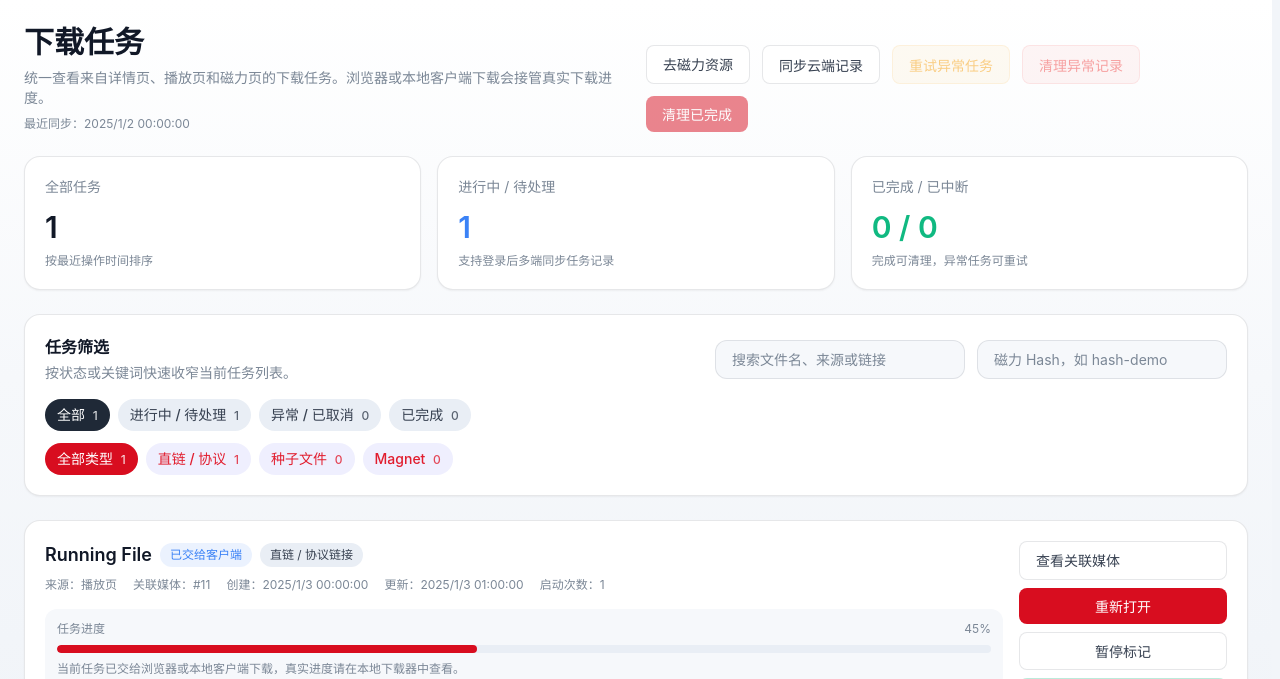
Test: DownloadsView › handles pause, complete, cancel, and remove row actions with visible feedback
The width and height of the screenshot is (1280, 679).
Click the button "暂停标记": (1123, 651) [1019,632,1227,670]
(page scrolled)
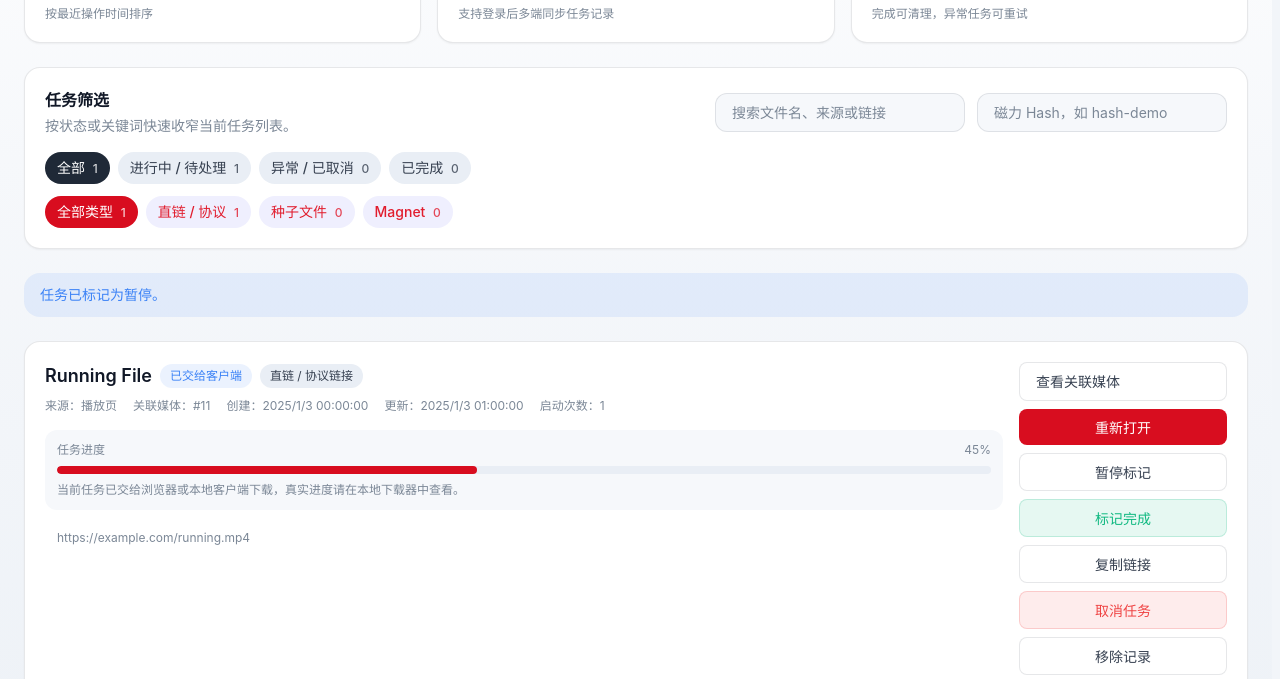
Expected: the text "任务已标记为暂停。" is shown, [24,273,1248,317]
Click the button "标记完成": (1123, 518) [1019,499,1227,537]
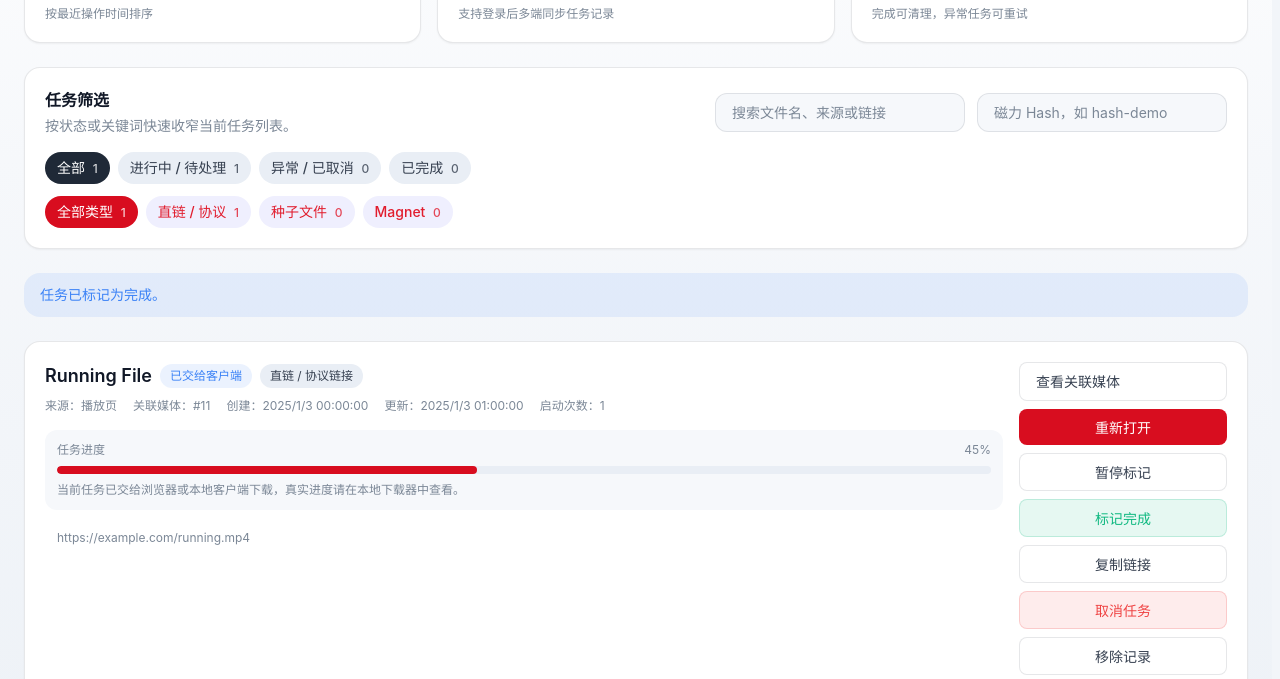
Expected: the text "任务已标记为完成。" is shown, [24,273,1248,317]
Click the button "取消任务": (1123, 610) [1019,591,1227,629]
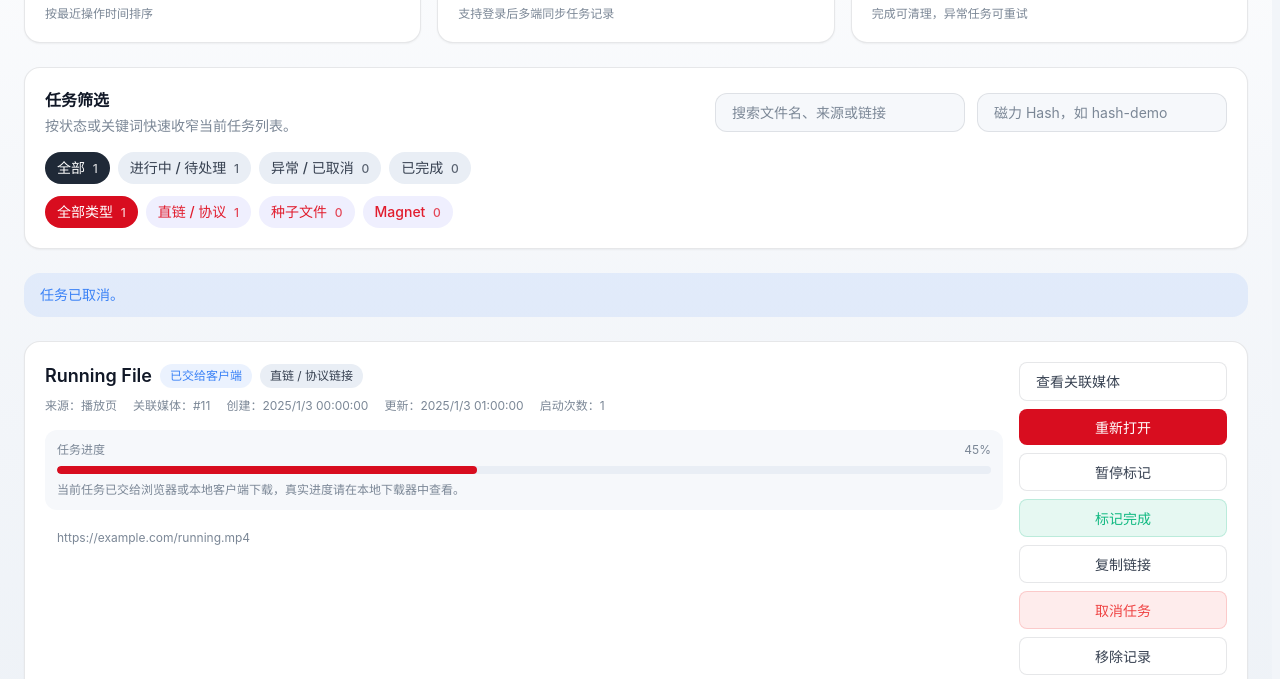
Expected: the text "任务已取消。" is shown, [24,273,1248,317]
Click the button "移除记录": (1123, 656) [1019,637,1227,675]
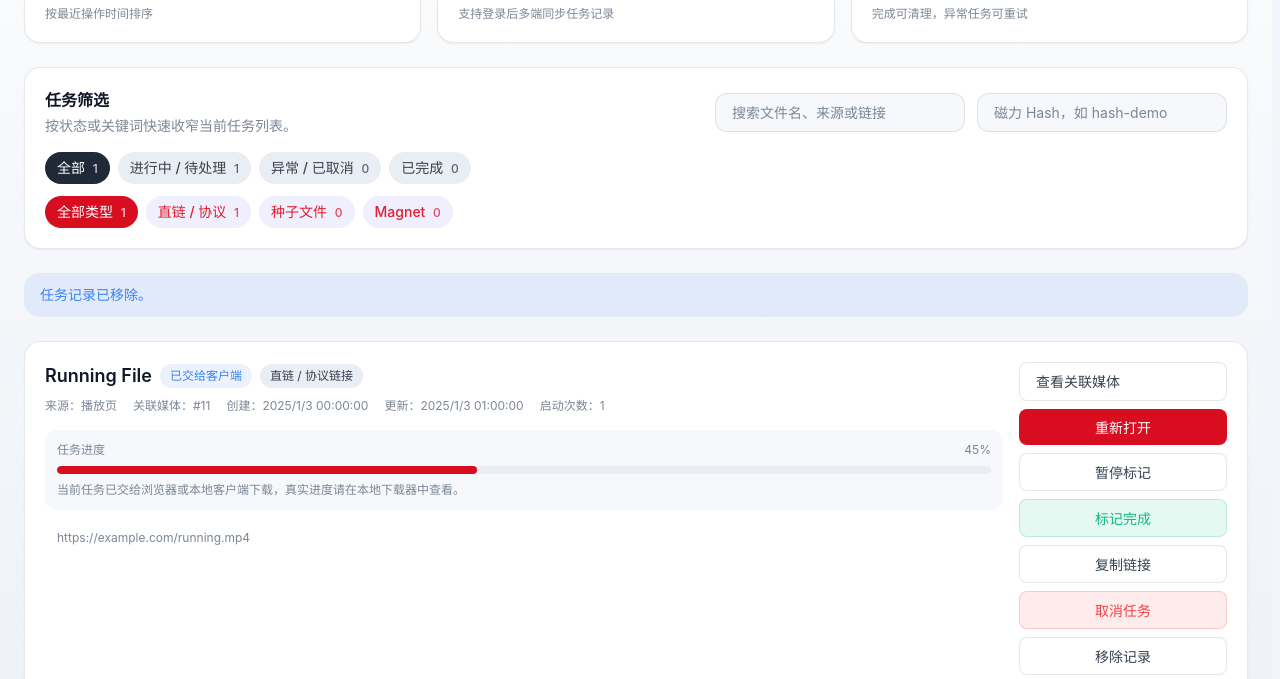
Expected: the text "任务记录已移除。" is shown, [24,273,1248,317]
